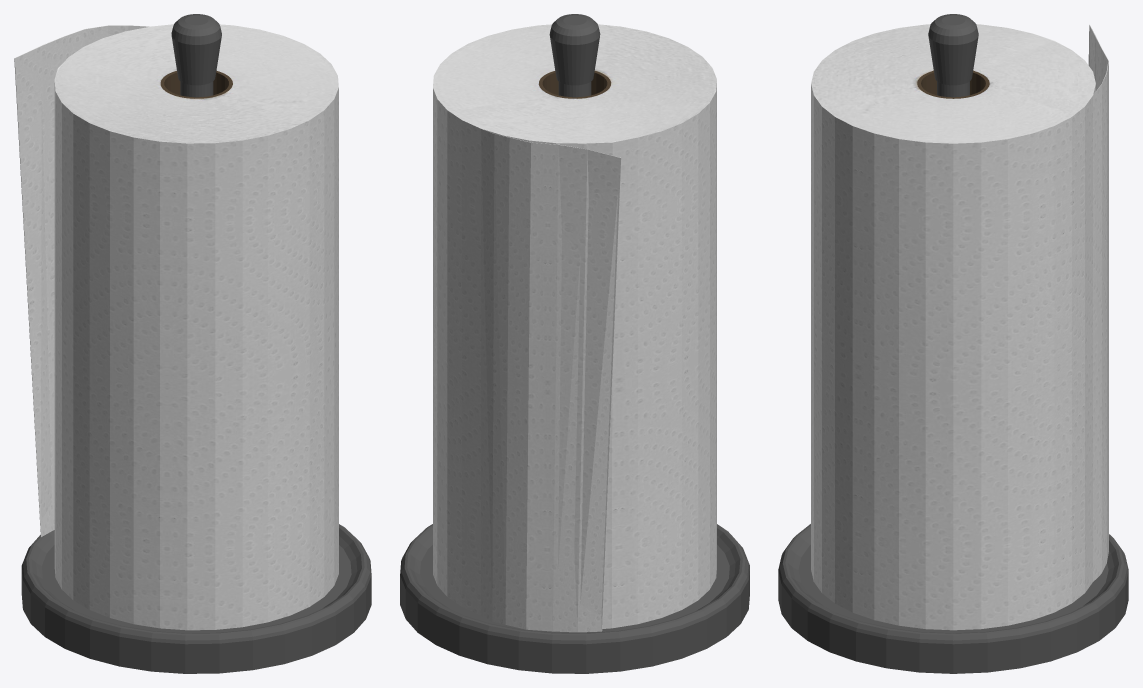
File: paperTowelHolder.obj
The picture shows the model from 3 angles, left to right: view 1: azimuth 30°, elevation 25°; view 2: azimuth 150°, elevation 25°; view 3: azimuth 270°, elevation 25°; orthographic projection.
Parts seen in each view (by area): view 1: paper_Cylinder.001, base_Cylinder; view 2: paper_Cylinder.001, base_Cylinder; view 3: paper_Cylinder.001, base_Cylinder.
Boxes of the visible parts, <box> form: paper_Cylinder.001: <box>14,24,338,630</box>; base_Cylinder: <box>21,14,371,673</box>; paper_Cylinder.001: <box>433,24,716,632</box>; base_Cylinder: <box>400,14,749,673</box>; paper_Cylinder.001: <box>811,24,1108,630</box>; base_Cylinder: <box>778,14,1128,673</box>.
Size of the model in its own units: 16 by 29.19 by 16.
